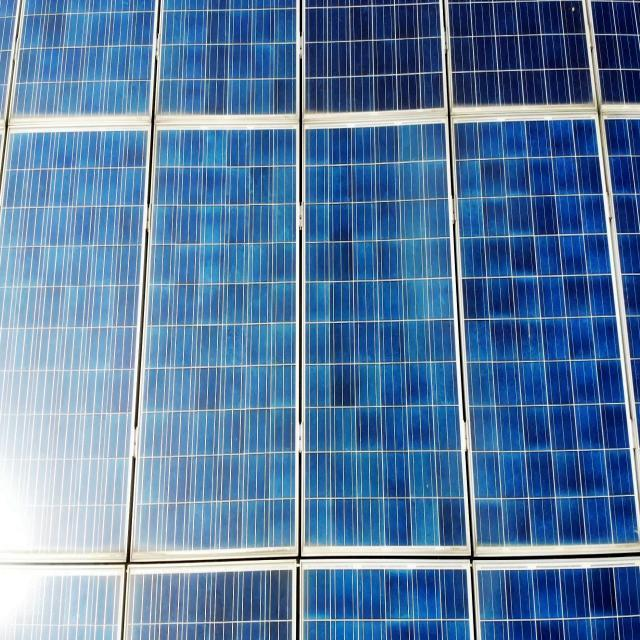no faulty: (450, 118, 636, 555), (301, 120, 475, 560), (3, 4, 640, 113), (0, 121, 154, 561), (148, 120, 302, 558)
